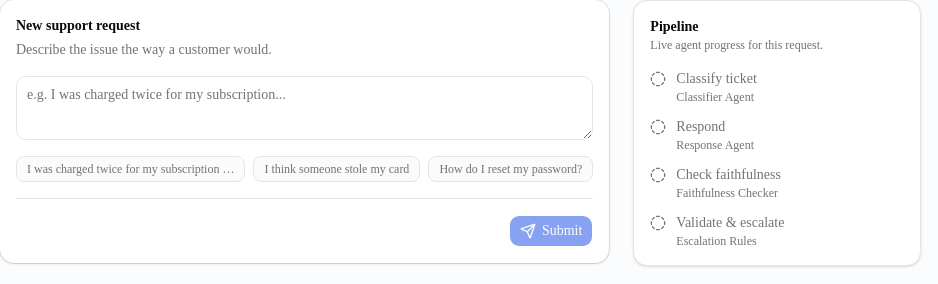
it: TicketForm › disables submit until a message is entered
Expected: the button "Submit" is disabled, [509, 215, 593, 247]
Type "I was charged twice" into the text box named "Describe your issue".
click(305, 108); type("I was charged twice")  # box [16, 76, 593, 140]
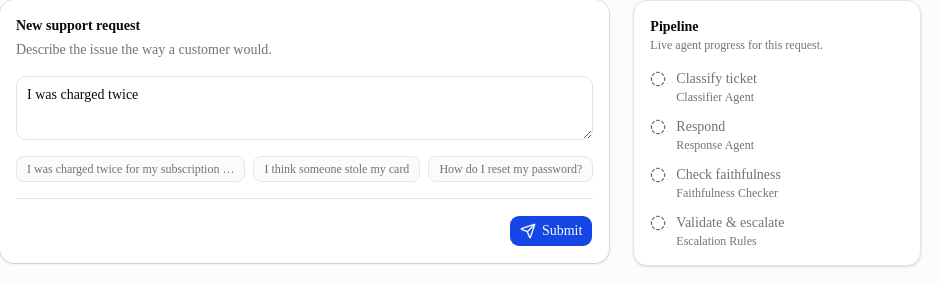
Expected: the button "Submit" is enabled, [509, 215, 593, 247]
